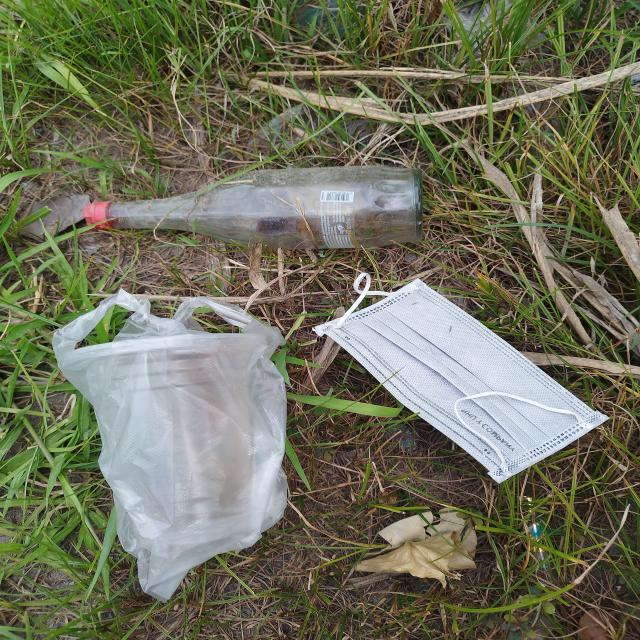bottle: (82, 166, 424, 249)
mask: (313, 273, 610, 484)
trash bag: (52, 288, 288, 603)
